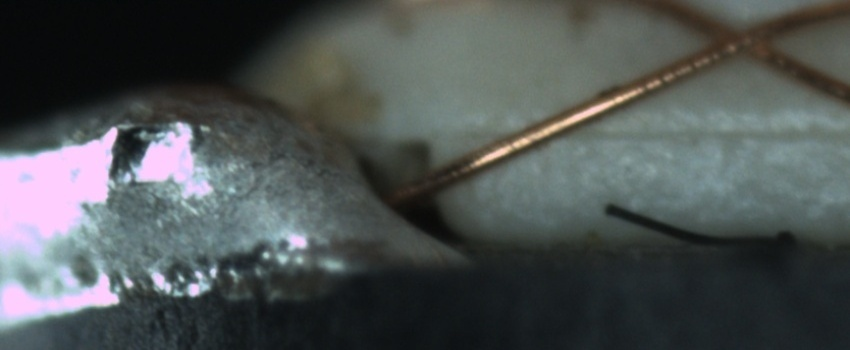CL: (690, 3, 791, 70)
DL: (555, 101, 849, 168)
